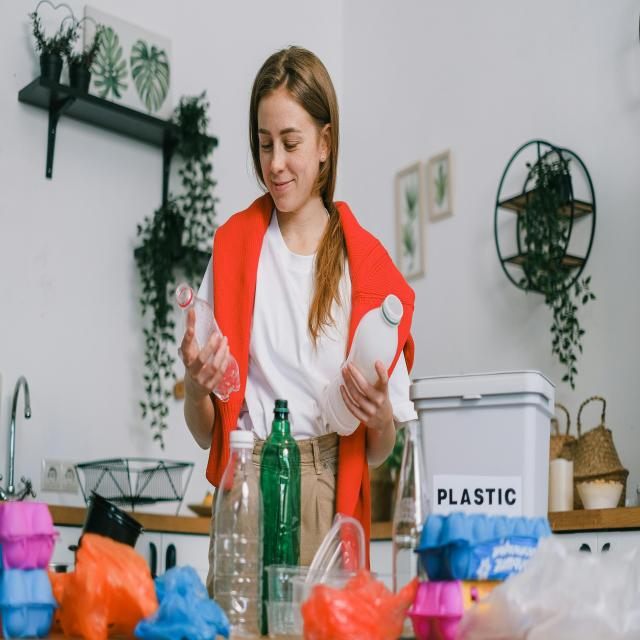plastic: (220, 454, 296, 563), (433, 514, 520, 585)
